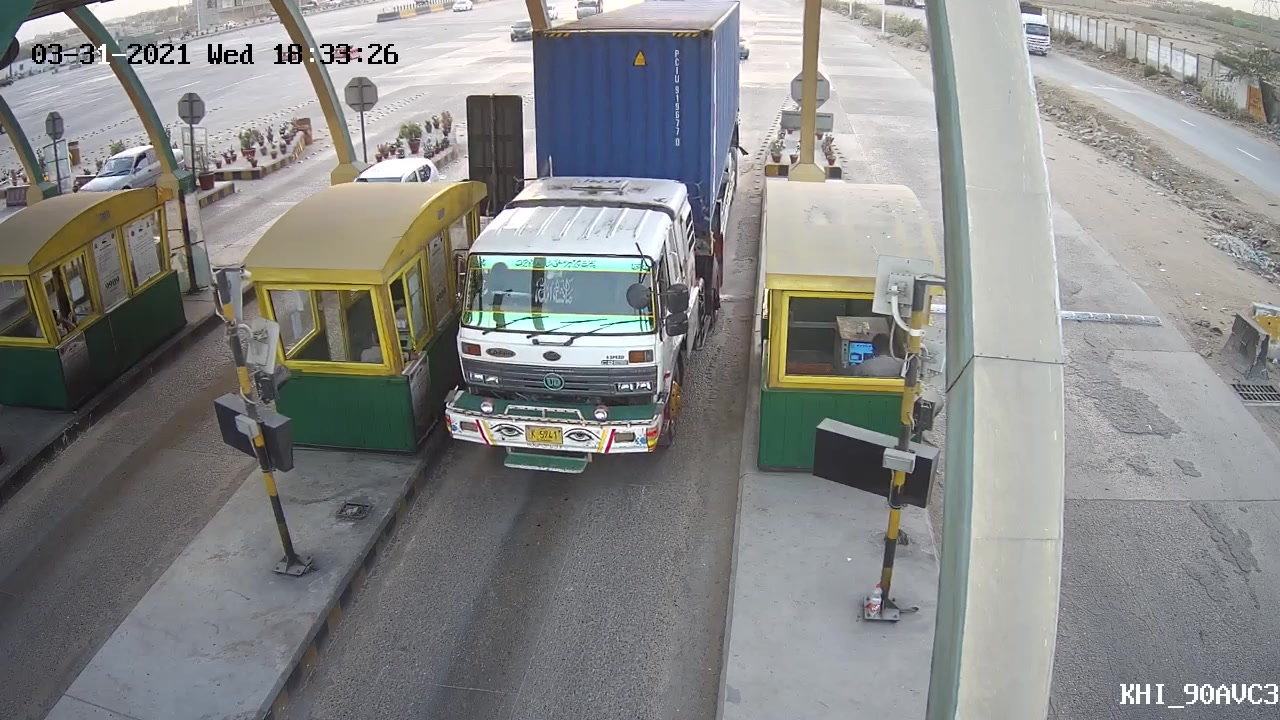F6: (425, 1, 755, 480)
